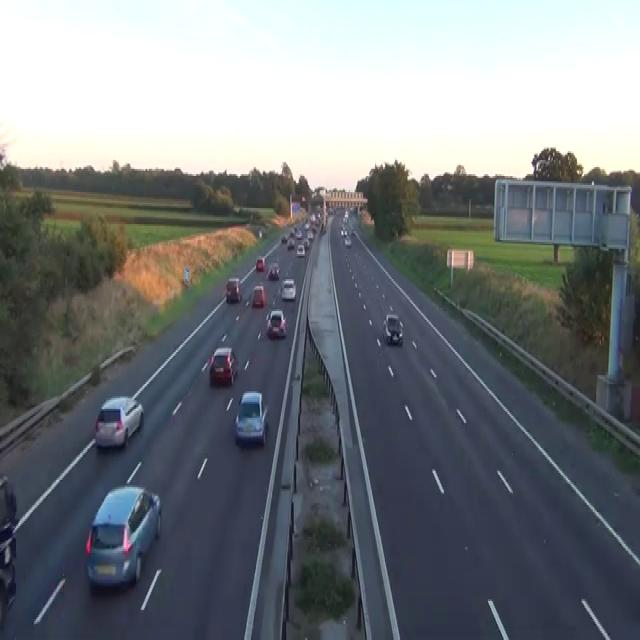Car: (84, 484, 161, 590), (94, 394, 144, 450), (0, 473, 17, 627), (234, 389, 268, 446), (0, 519, 16, 597), (209, 345, 238, 386), (0, 566, 16, 628), (0, 474, 17, 532), (382, 313, 403, 345), (266, 309, 287, 338), (225, 278, 241, 302), (251, 284, 265, 308), (281, 278, 296, 300), (268, 261, 280, 279), (255, 256, 265, 270), (296, 244, 305, 256), (286, 238, 294, 249), (340, 226, 347, 236), (350, 205, 357, 215), (320, 222, 326, 233), (303, 238, 309, 249), (344, 237, 351, 246), (281, 233, 287, 243), (295, 230, 302, 238), (233, 204, 239, 213), (328, 206, 334, 215), (343, 210, 348, 220), (304, 220, 309, 230), (349, 226, 355, 234), (258, 228, 262, 238), (301, 196, 305, 204)
